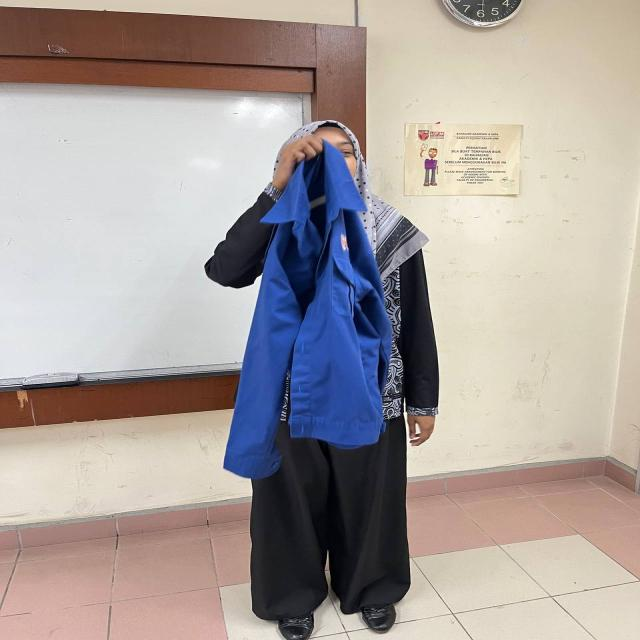person_without_labcoat: (205, 122, 437, 640)
